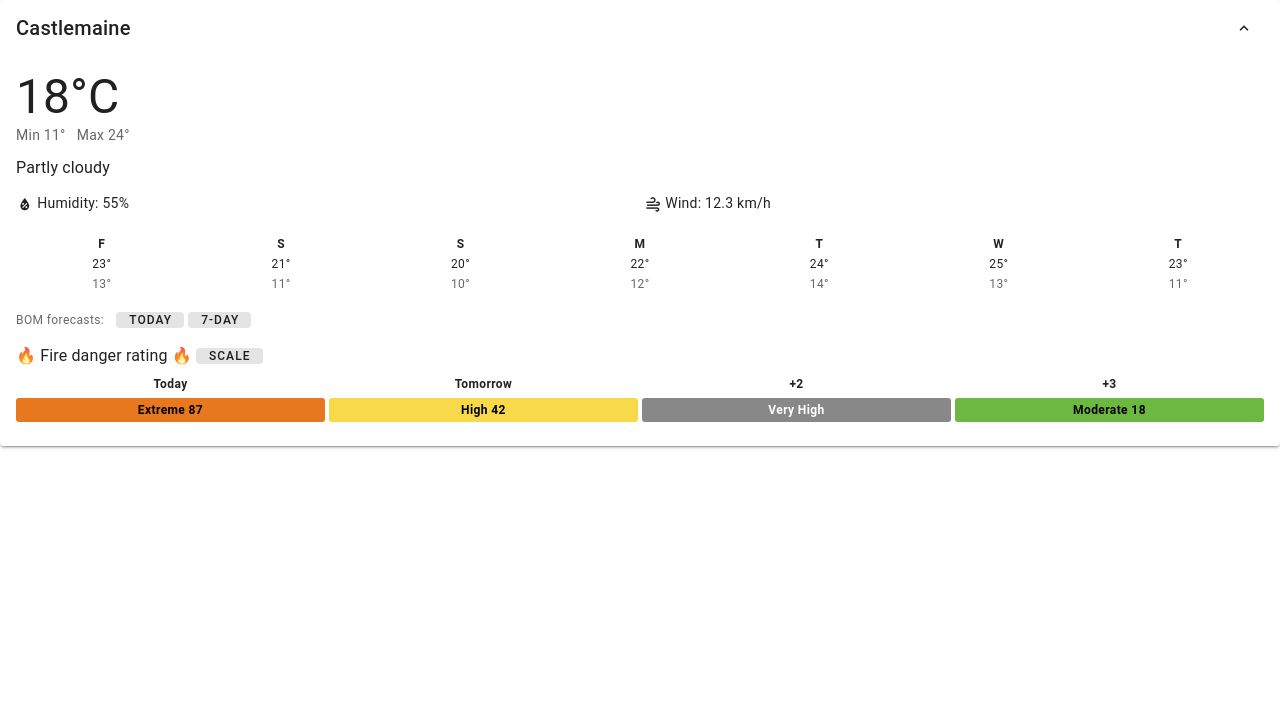
Test: WeatherCard — FDR help popup › shows all five AFDRS rating labels after clicking ?
Step 1. Click the button with class "fdr-help-btn" → (229, 356), box [196,348,263,364]
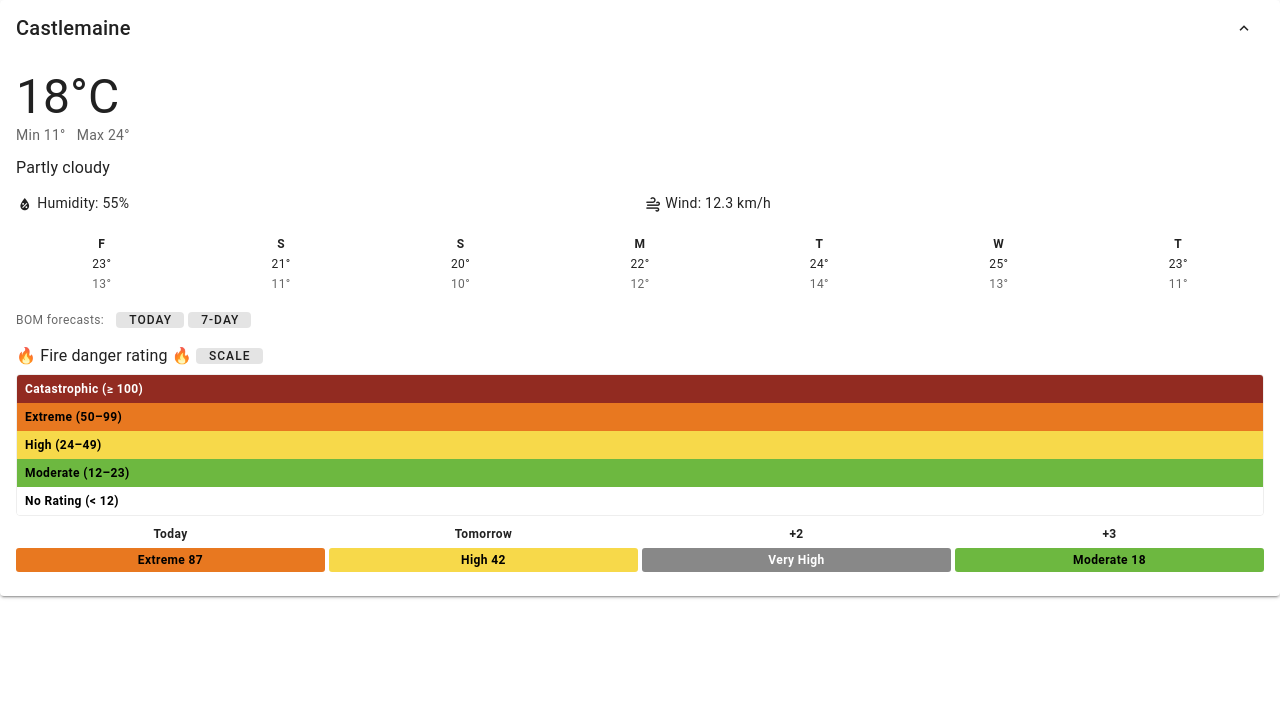
expect the element with class "fdr-help-panel" shows "No Rating": met, box [25,494,119,508]
expect the element with class "fdr-help-panel" shows "Moderate": met, box [25,466,130,480]
expect the element with class "fdr-help-panel" shows "High": met, box [25,438,102,452]
